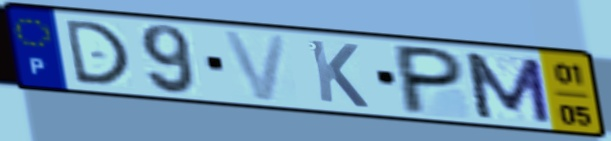9: (140, 22, 203, 97)
D: (61, 17, 134, 87)
K: (305, 37, 372, 111)
M: (459, 50, 556, 126)
P: (395, 42, 468, 117)
V: (218, 28, 292, 104)
